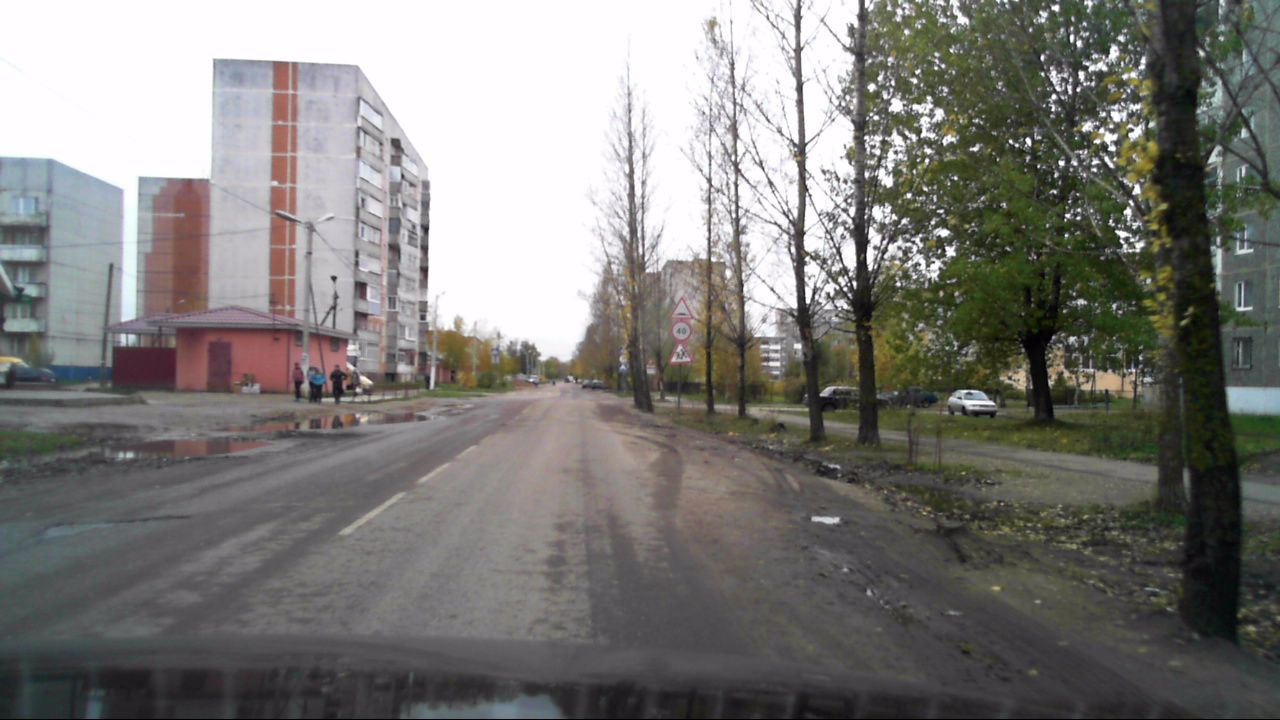speed_warning_40: (670, 322, 692, 341)
